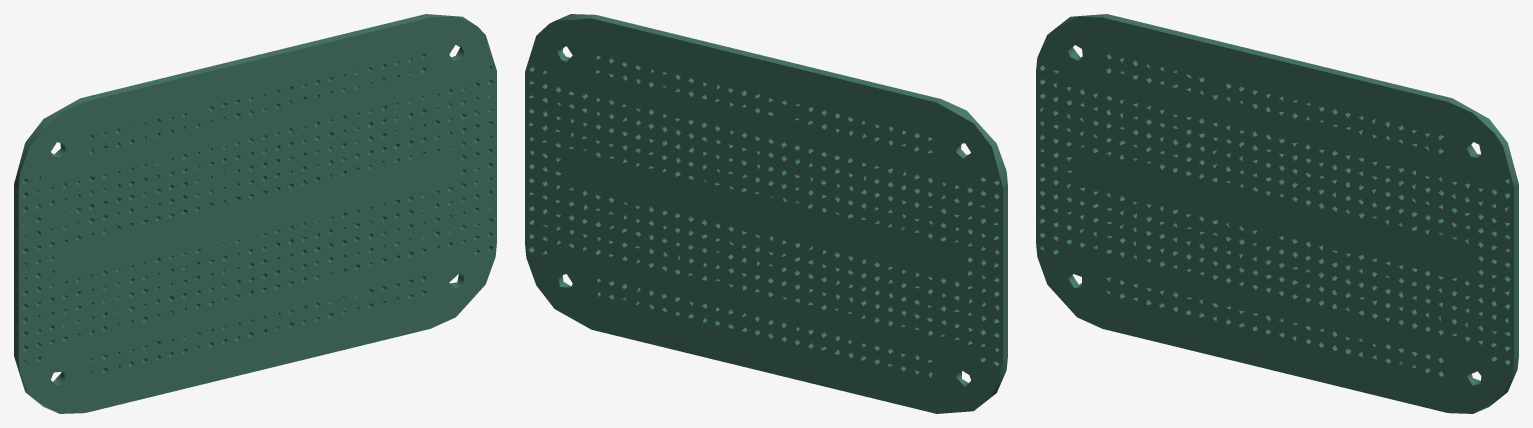
The model's file is ada-723.glb.
The picture shows the model from 3 angles, left to right: view 1: azimuth 30°, elevation 25°; view 2: azimuth 150°, elevation 25°; view 3: azimuth 330°, elevation 25°; orthographic projection.
Visible parts, largest first — view 1: 0.08333333333333333_0.16666666666666666_0.16666666666666666_; view 2: 0.08333333333333333_0.16666666666666666_0.16666666666666666_; view 3: 0.08333333333333333_0.16666666666666666_0.16666666666666666_.
Part boxes in pixels (box(x1,y1,x2,y2)): 0.08333333333333333_0.16666666666666666_0.16666666666666666_: box(14, 14, 496, 413); 0.08333333333333333_0.16666666666666666_0.16666666666666666_: box(525, 14, 1007, 413); 0.08333333333333333_0.16666666666666666_0.16666666666666666_: box(1036, 14, 1518, 413).
Bounding box in the file's own units: 9.14 × 5.69 × 0.1574.
